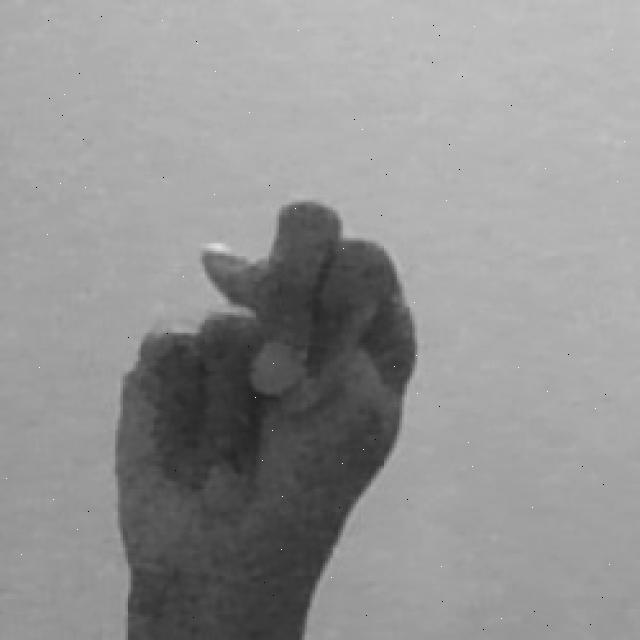N: (105, 184, 425, 640)
